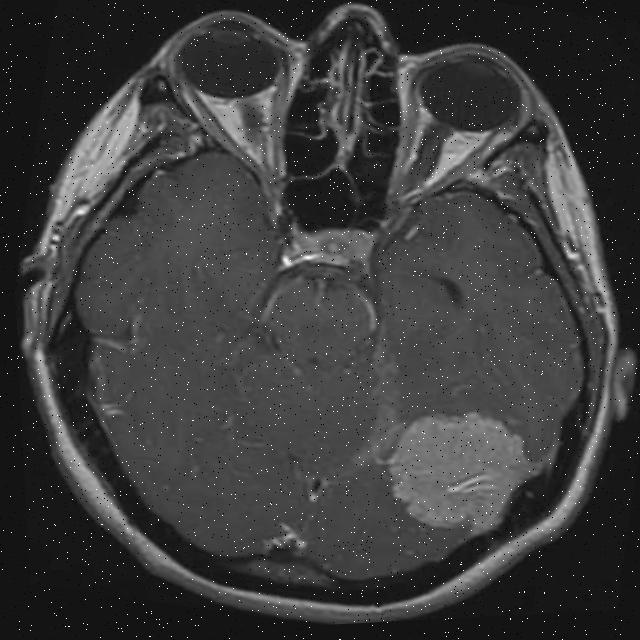Meningioma: (367, 386, 563, 559)
